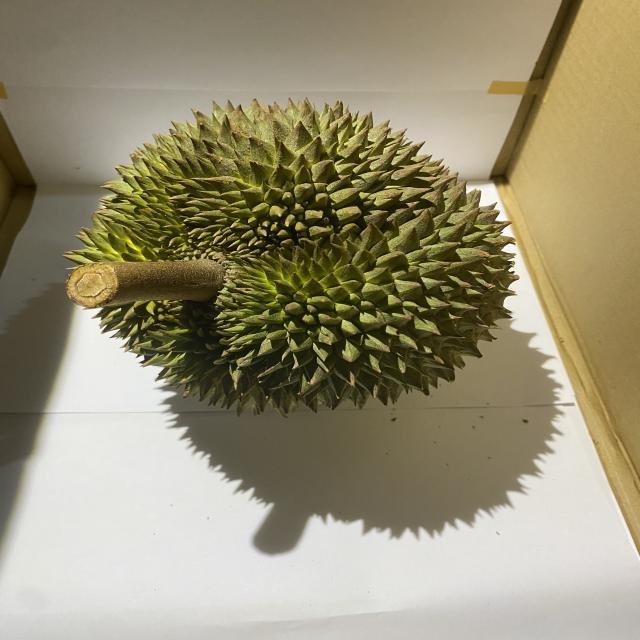immature: (64, 96, 524, 414)
